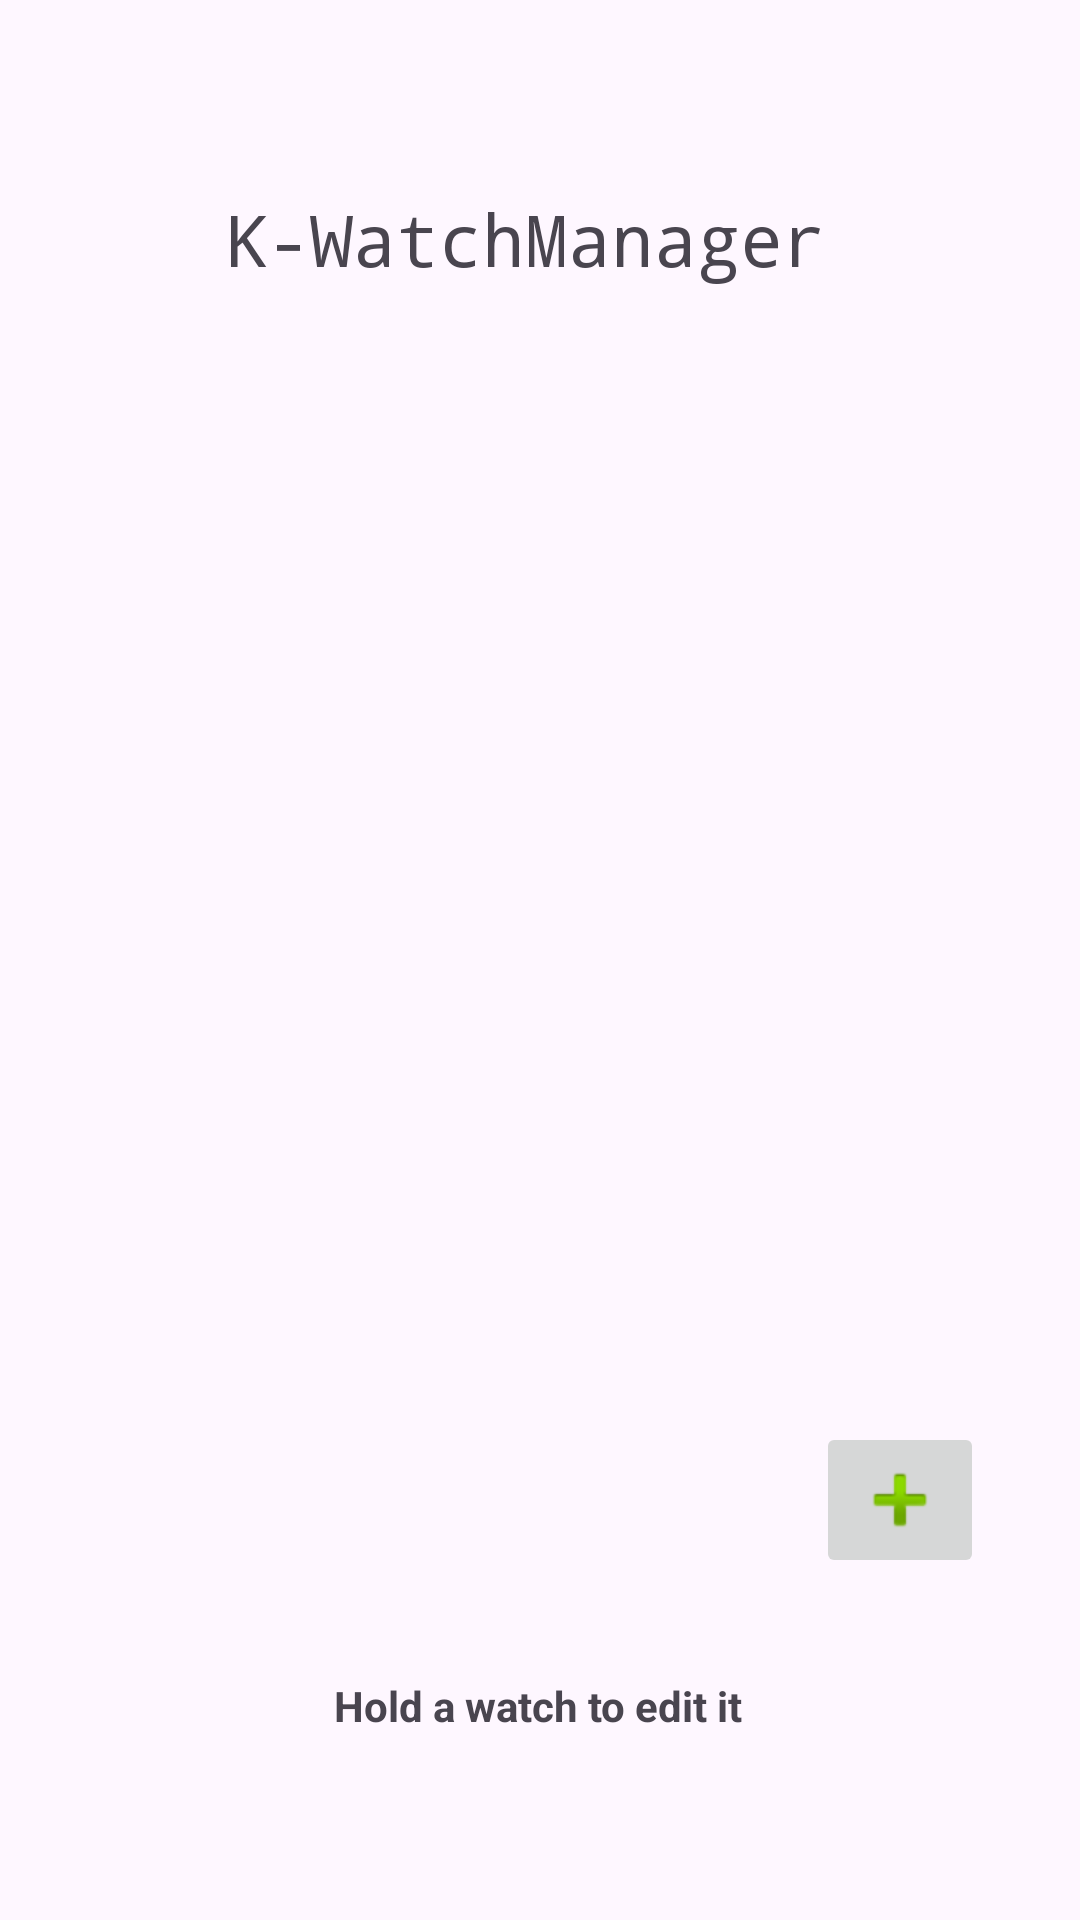

Icons on this 1080px x 1920px Android screen, each with its box as Rect(x1, y1, x2, y2):
add: Rect(828, 1440, 972, 1560)
